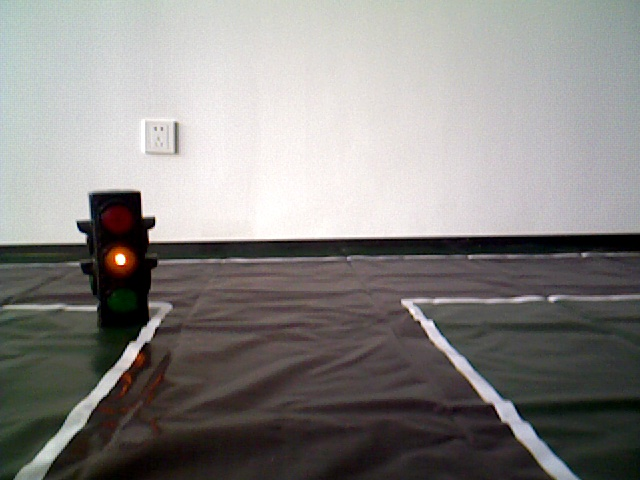yellow: (84, 195, 153, 329)
